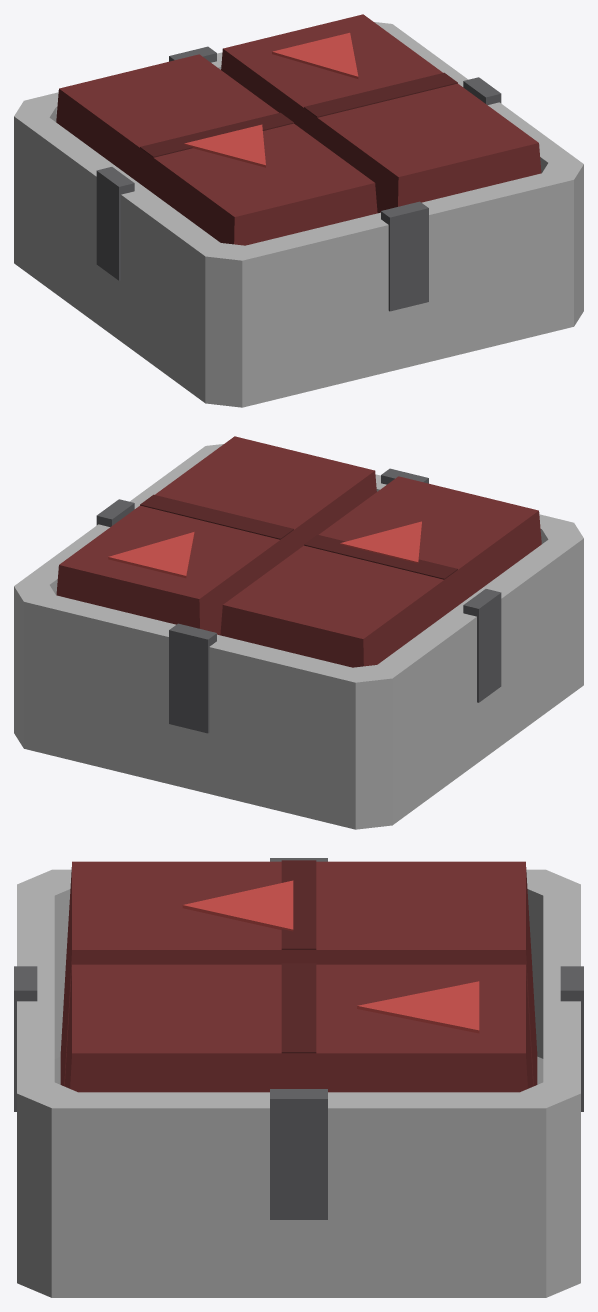
The model's file is vge_explosives_crate_b.obj.
3 renders of one model, top to bottom at view 1: azimuth 30°, elevation 25°; view 2: azimuth 150°, elevation 25°; view 3: azimuth 270°, elevation 25°, orthographic. The views are drawn at different scales.
Visible parts, largest first — view 1: vge_explosives_crate_b_0, vge_explosives_crate_b_9, vge_explosives_crate_b_6, vge_explosives_crate_b_11, vge_explosives_crate_b_7, vge_explosives_crate_b_16, vge_explosives_crate_b_17, vge_explosives_crate_b_2, vge_explosives_crate_b_12, vge_explosives_crate_b_13, vge_explosives_crate_b_1, vge_explosives_crate_b_14 (+3 smaller); view 2: vge_explosives_crate_b_4, vge_explosives_crate_b_9, vge_explosives_crate_b_6, vge_explosives_crate_b_11, vge_explosives_crate_b_5, vge_explosives_crate_b_15, vge_explosives_crate_b_17, vge_explosives_crate_b_2, vge_explosives_crate_b_12, vge_explosives_crate_b_13, vge_explosives_crate_b_3, vge_explosives_crate_b_14 (+3 smaller); view 3: vge_explosives_crate_b_2, vge_explosives_crate_b_11, vge_explosives_crate_b_9, vge_explosives_crate_b_18, vge_explosives_crate_b_1, vge_explosives_crate_b_3, vge_explosives_crate_b_0, vge_explosives_crate_b_4, vge_explosives_crate_b_13, vge_explosives_crate_b_12, vge_explosives_crate_b_14, vge_explosives_crate_b_5 (+4 smaller).
Part boxes in pixels (x1,y1,x2,y2): vge_explosives_crate_b_0: (242, 173, 573, 407); vge_explosives_crate_b_9: (56, 54, 377, 245); vge_explosives_crate_b_6: (14, 116, 220, 402); vge_explosives_crate_b_11: (221, 14, 541, 213); vge_explosives_crate_b_7: (205, 243, 245, 407); vge_explosives_crate_b_16: (381, 201, 428, 311); vge_explosives_crate_b_17: (96, 167, 134, 280); vge_explosives_crate_b_2: (385, 24, 583, 173); vge_explosives_crate_b_12: (304, 72, 457, 117); vge_explosives_crate_b_13: (272, 32, 358, 78); vge_explosives_crate_b_1: (542, 163, 583, 326); vge_explosives_crate_b_14: (184, 124, 265, 167); vge_explosives_crate_b_4: (24, 595, 355, 829); vge_explosives_crate_b_9: (220, 476, 541, 667); vge_explosives_crate_b_6: (377, 538, 583, 824); vge_explosives_crate_b_11: (56, 436, 376, 635); vge_explosives_crate_b_5: (352, 665, 392, 829); vge_explosives_crate_b_15: (169, 623, 216, 733); vge_explosives_crate_b_17: (463, 589, 501, 702); vge_explosives_crate_b_2: (14, 446, 212, 595); vge_explosives_crate_b_12: (140, 494, 293, 539); vge_explosives_crate_b_13: (108, 532, 194, 578); vge_explosives_crate_b_3: (14, 585, 55, 748); vge_explosives_crate_b_14: (340, 521, 421, 563); vge_explosives_crate_b_2: (51, 1092, 546, 1297); vge_explosives_crate_b_11: (64, 964, 533, 1092); vge_explosives_crate_b_9: (60, 861, 537, 1086); vge_explosives_crate_b_18: (270, 1089, 327, 1219); vge_explosives_crate_b_1: (17, 1082, 77, 1297); vge_explosives_crate_b_3: (520, 1082, 580, 1297); vge_explosives_crate_b_0: (17, 884, 54, 1093); vge_explosives_crate_b_4: (543, 884, 580, 1093); vge_explosives_crate_b_13: (357, 981, 479, 1033); vge_explosives_crate_b_12: (281, 963, 316, 1053); vge_explosives_crate_b_14: (182, 880, 293, 931); vge_explosives_crate_b_5: (527, 870, 580, 1058).
Size of the model in its own units: 1.96 by 0.852 by 1.96.
